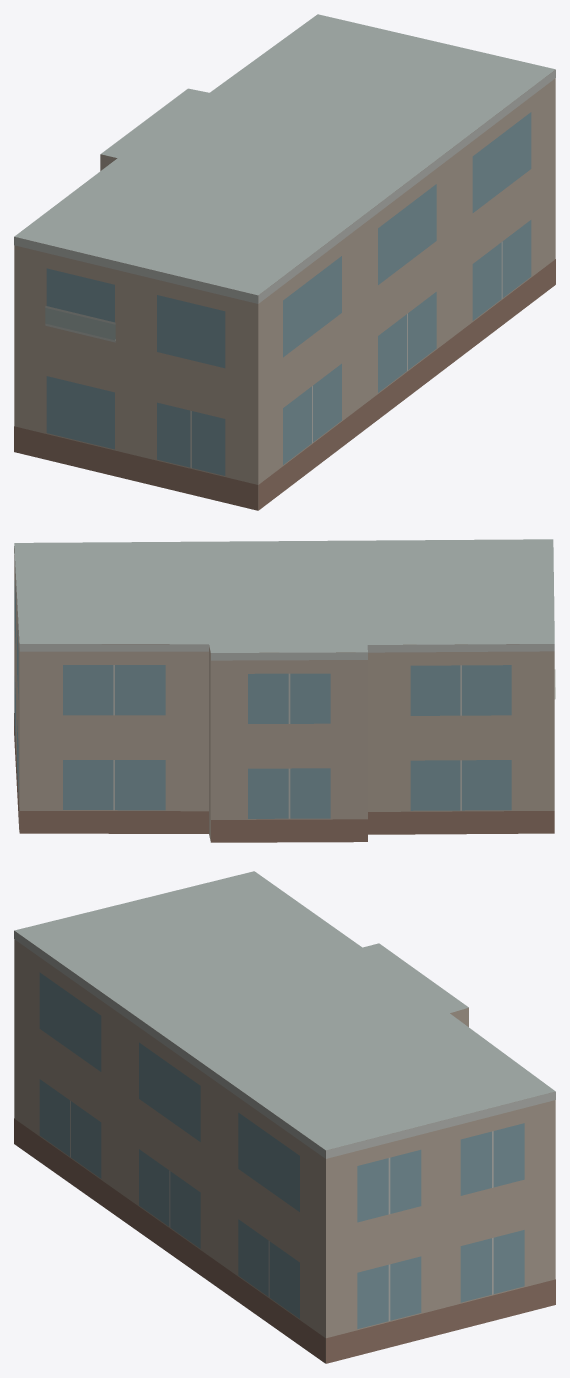
Rendered from survey-upis-32684300.glb.
The picture shows the model from 3 angles, top to bottom: view 1: azimuth 30°, elevation 25°; view 2: azimuth 150°, elevation 25°; view 3: azimuth 270°, elevation 25°; orthographic projection. The views are drawn at different scales.
Visible parts, largest first — view 1: survey-upis-32684300.tmp; view 2: survey-upis-32684300.tmp; view 3: survey-upis-32684300.tmp.
Boxes of the visible parts, x1,y1,x2,y2 form: survey-upis-32684300.tmp: (14,14,555,510); survey-upis-32684300.tmp: (14,539,555,842); survey-upis-32684300.tmp: (14,871,555,1363).
Bounding box in the file's own units: 17.14 × 6.1 × 14.04.
